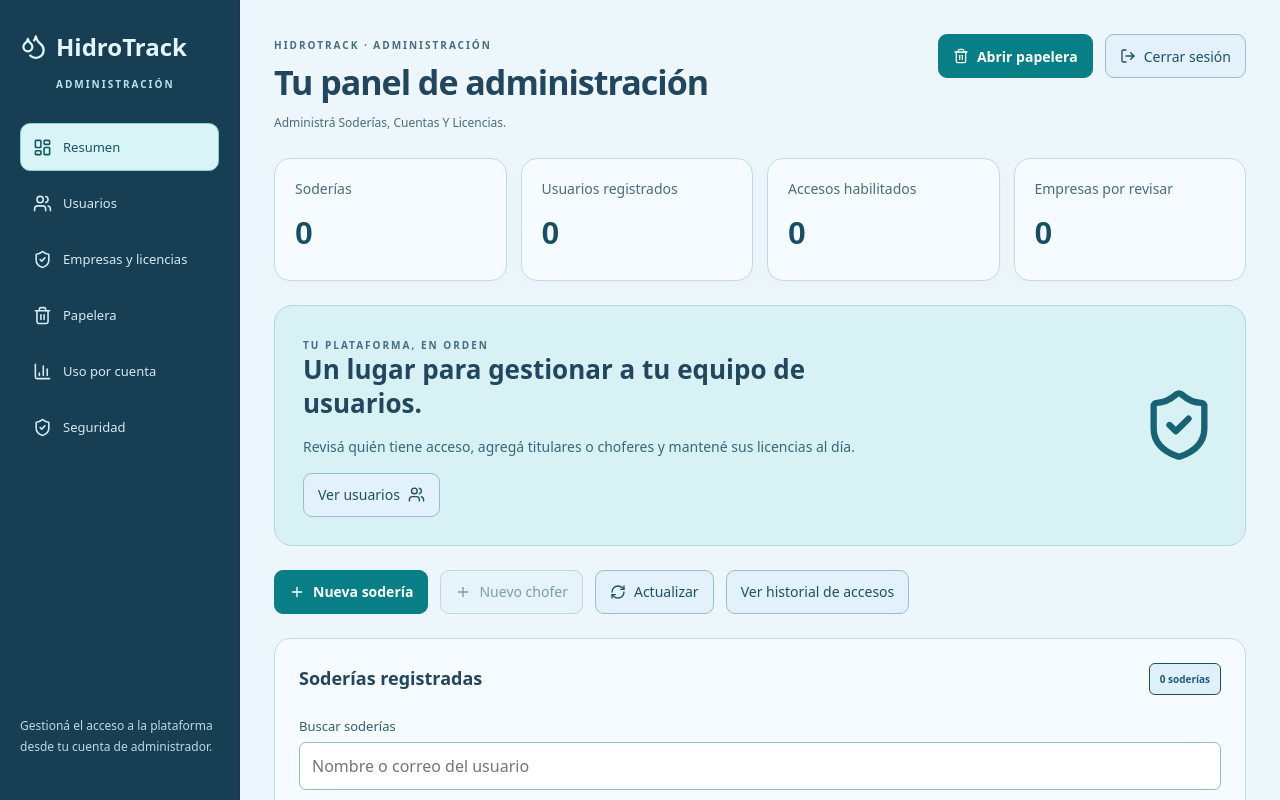
muestra el error del servidor sin anunciar un alta exitosa
Click the button "Nueva sodería": click(351, 592) [274,570,428,614]
(page scrolled)
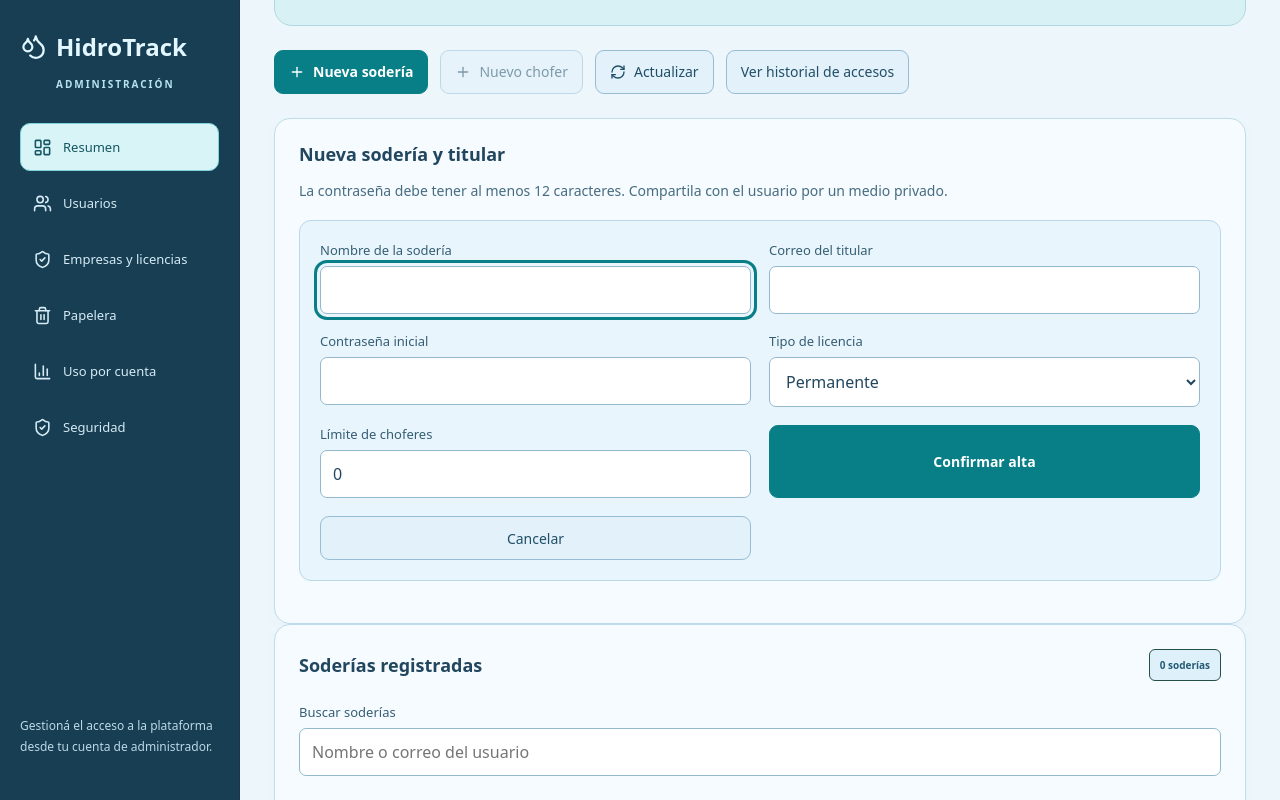
Submit the text "Confirmar alta", box [299,220,1221,581]
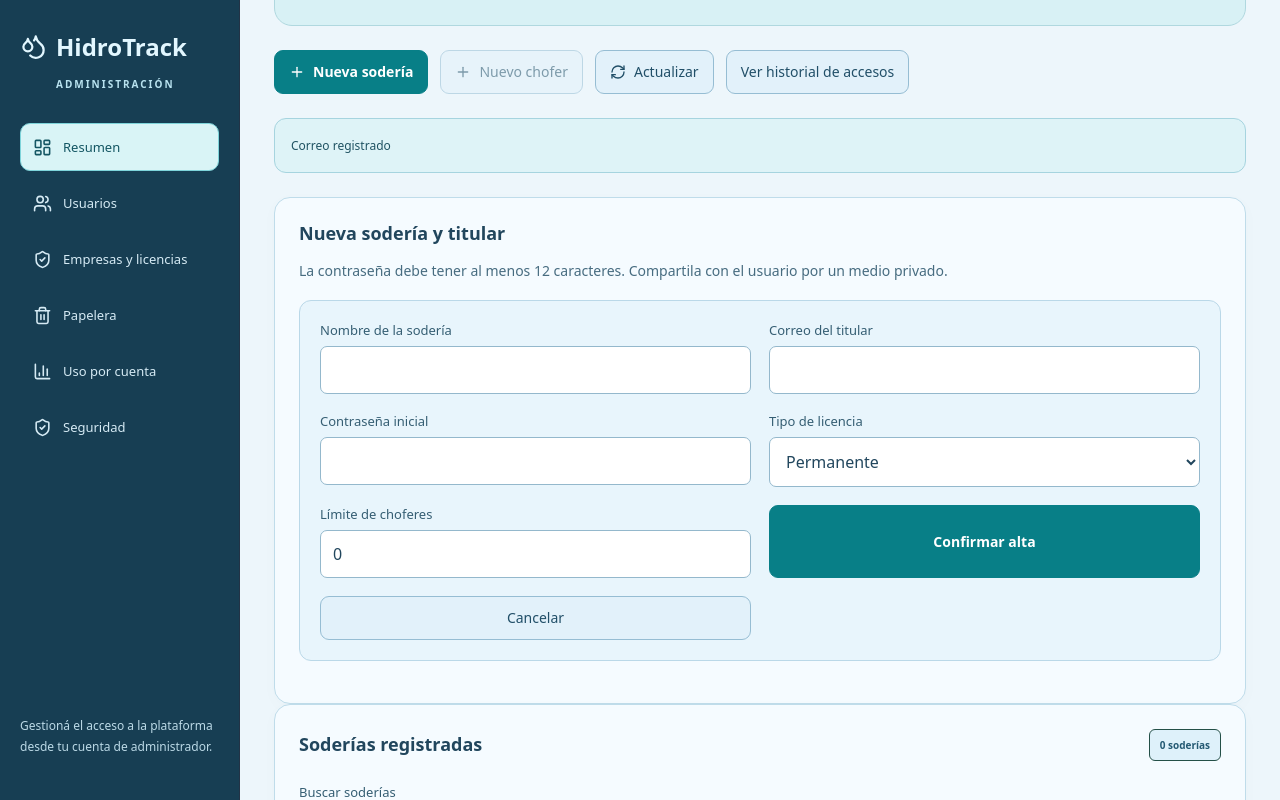
Expected: the text "Correo registrado" is shown, [274,118,1246,173]
